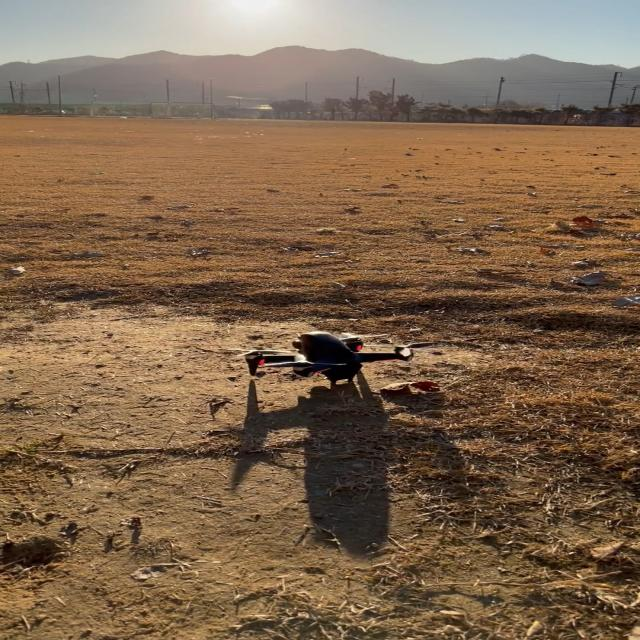Drone: (223, 328, 430, 390)
